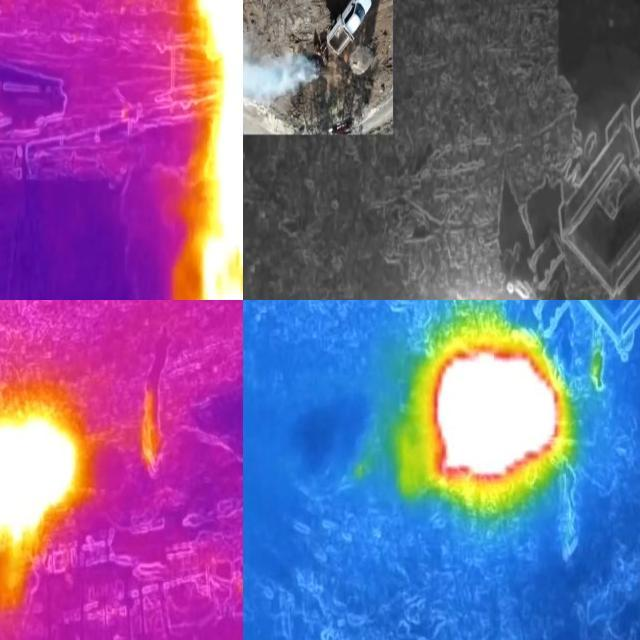fire: (398, 327, 572, 513), (193, 1, 244, 301), (1, 405, 81, 595)
